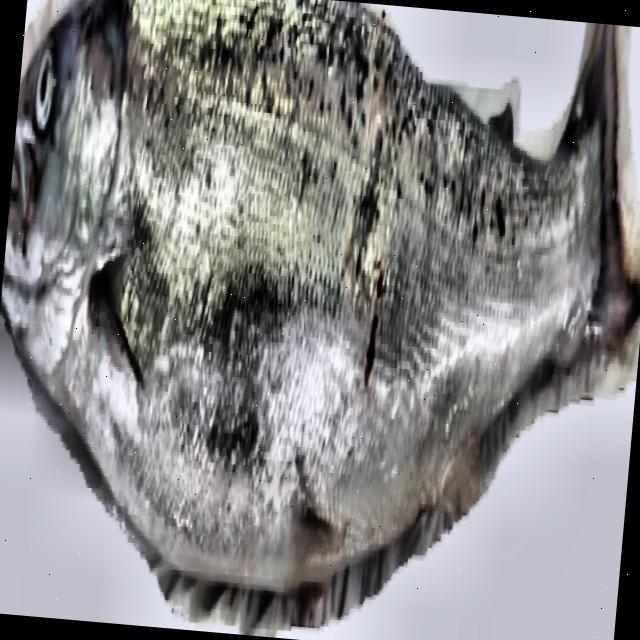mild_red: (63, 0, 597, 586)
